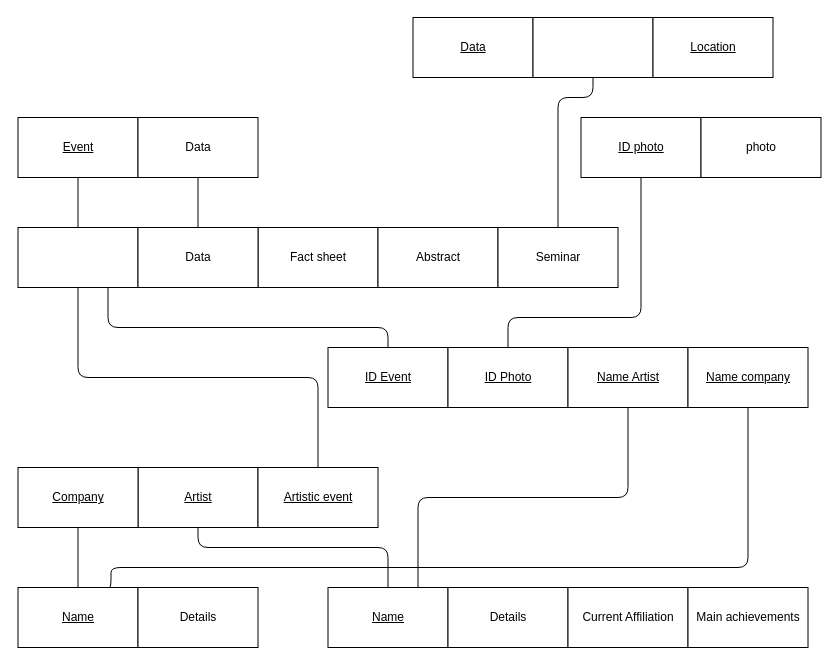
Image size: 838x665. Some labels were removed from this diagram. The centre of each missing label's shape, as x and y in pixels:
"ID" goes at point 77,257.
"Title" goes at point 592,47.
